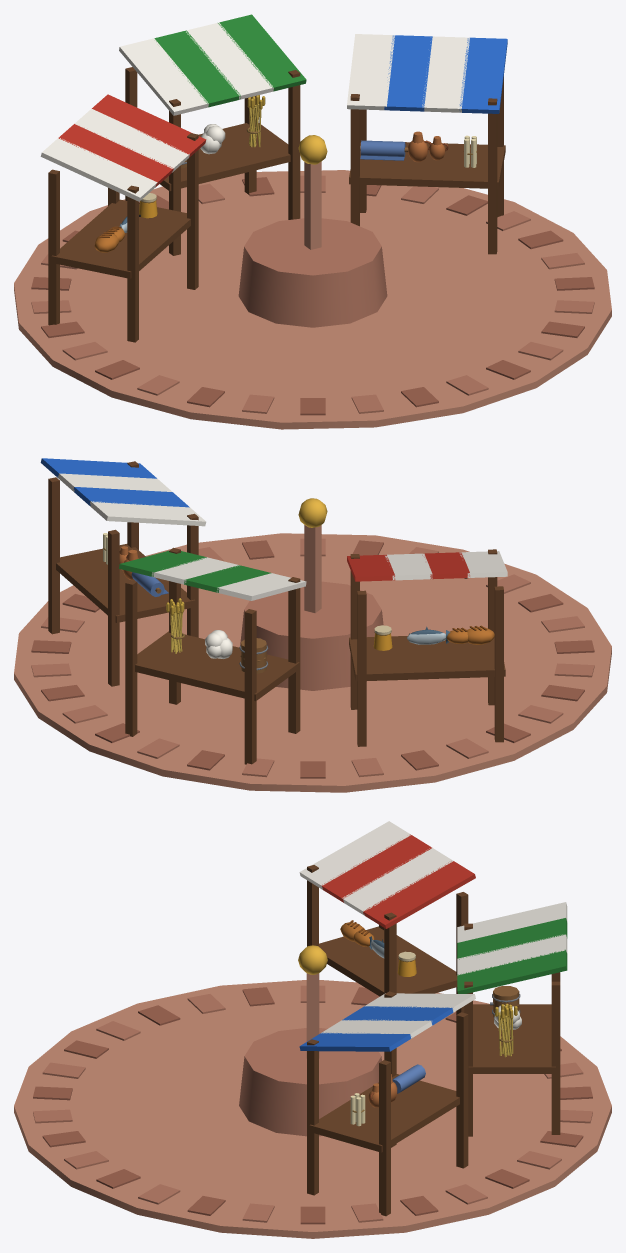
Rendered from markt.glb.
The picture shows the model from 3 angles, top to bottom: view 1: azimuth 30°, elevation 25°; view 2: azimuth 150°, elevation 25°; view 3: azimuth 270°, elevation 25°; orthographic projection.
Size of the model in its own units: 4.8 by 1.58 by 4.8.
